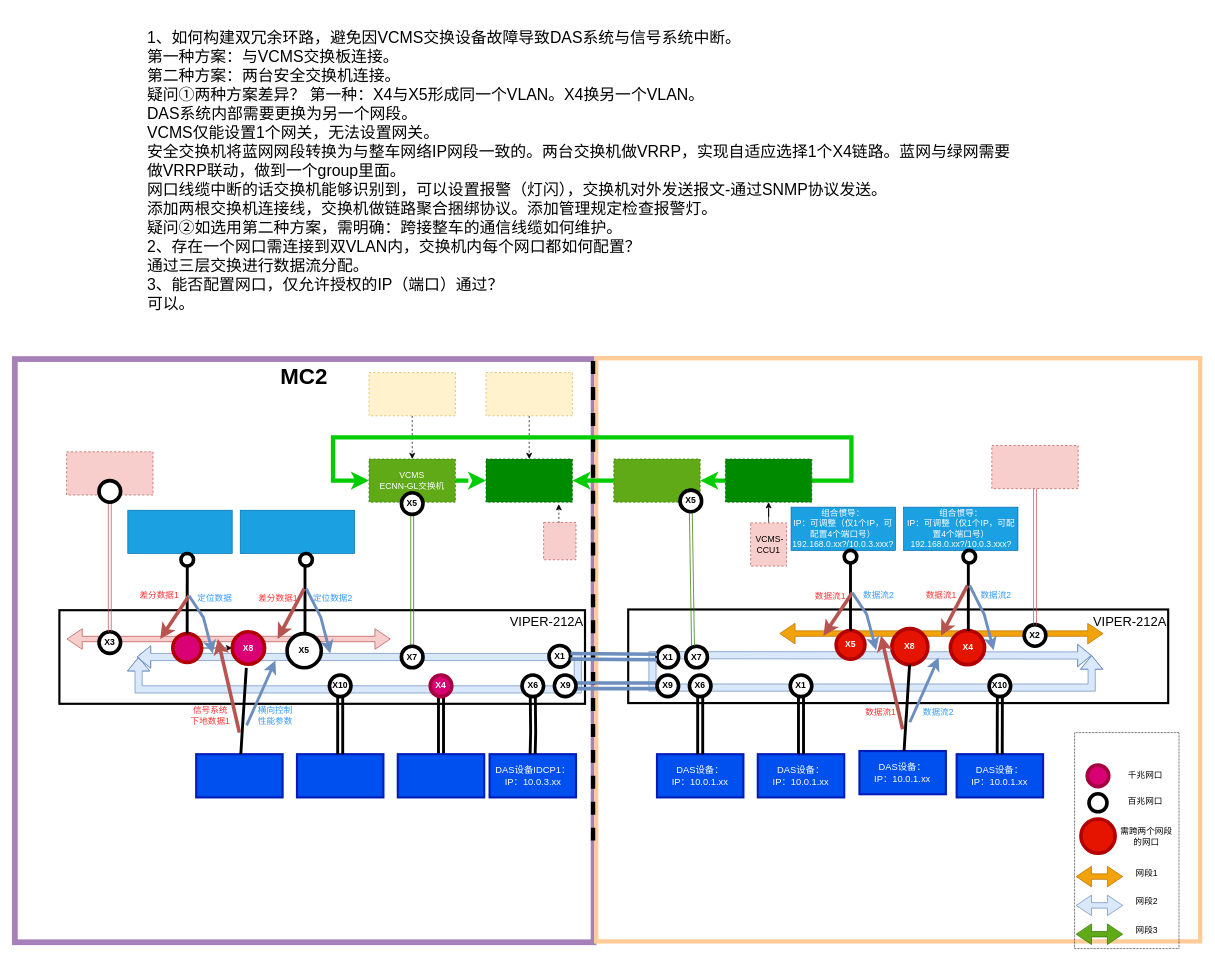
This 1215x961 diagram has some shape labels left out. The shapes that lost their labels are listed below. From the top down, each one's box as (x1, y1, x2, y2) in pixels, then its label:
(368, 372, 455, 416): VATC 1系
(485, 372, 572, 416): VATC 2系
(66, 451, 153, 495): 信号系统AP IP:192.168.0.xxx
(485, 458, 572, 502): VCMS交换板
(613, 458, 700, 502): VCMS SWITCH交换机
(725, 458, 812, 502): VCMS交换版
(991, 445, 1078, 489): 下地链路(媒体网或信号下地链路）: IP:192.168.0.xxx
(97, 478, 122, 504): X19
(127, 510, 232, 553): 组合惯导Bynav： IP：可调整（仅1个IP，可配置4个端口号） 192.168.0.xx?/10.0.3.xxx?
(240, 510, 355, 553): 组合惯导CGI： IP：可调整（仅1个IP，可配置4个端口号） 192.168.0.xx?/10.0.3.xxx?
(543, 522, 576, 560): VCMS-CCU2
(171, 631, 203, 664): X12
(594, 356, 1202, 943): MC1
(195, 753, 283, 798): DAS设备从ORIN： IP：10.0.3.xx
(296, 753, 384, 798): DAS设备IDCP2： IP：10.0.3.xx
(396, 753, 485, 798): DAS设备ORIN主模组： IP：10.0.3.xx
(1074, 732, 1179, 949): 图例
